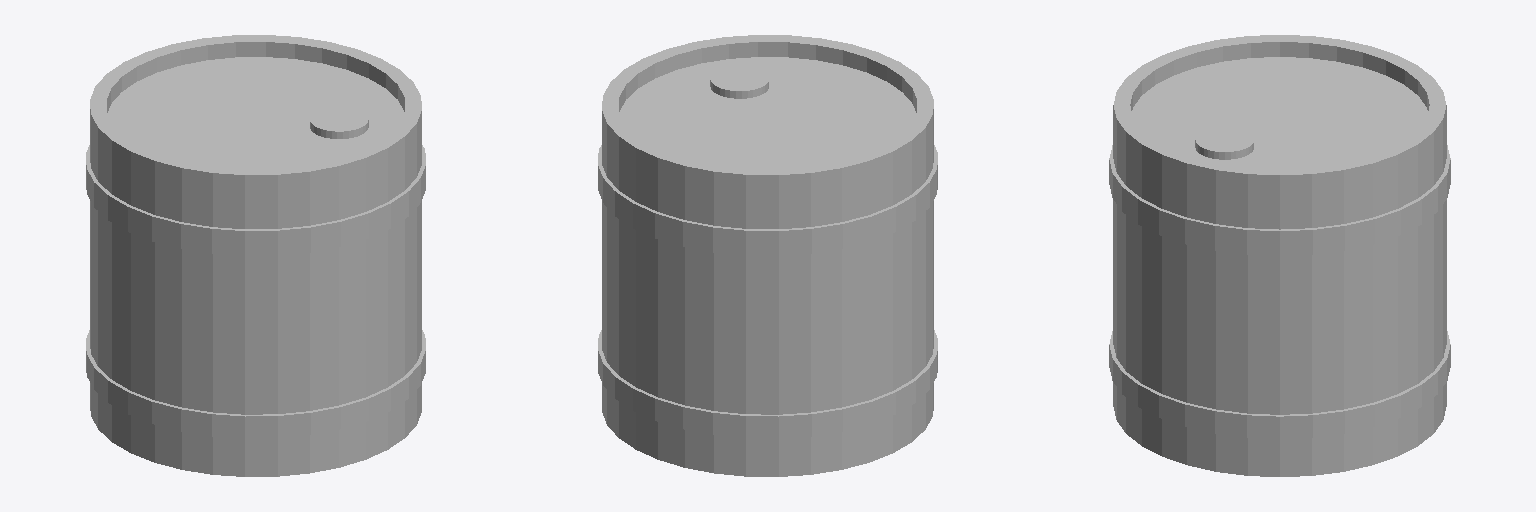
Rendered from EnhancedAmmunitionDepot.obj.
3 renders of one model, left to right at view 1: azimuth 30°, elevation 25°; view 2: azimuth 150°, elevation 25°; view 3: azimuth 270°, elevation 25°, orthographic.
Parts seen in each view (by area): view 1: 円柱; view 2: 円柱; view 3: 円柱.
Part boxes in pixels (x1,y1,x2,y2): 円柱: (86, 35, 425, 476); 円柱: (598, 35, 937, 476); 円柱: (1109, 35, 1450, 476).
Bounding box in the file's own units: 1.02 × 1 × 1.02.